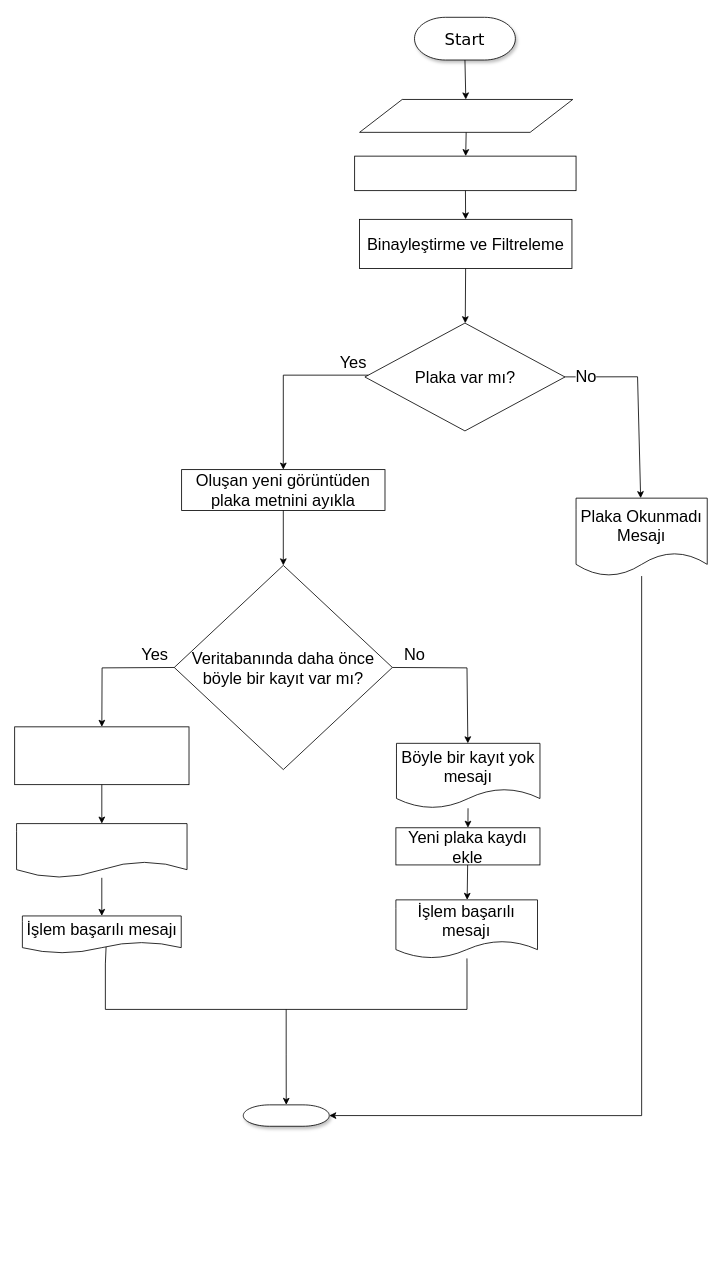
This 722x1277 diagram has some shape labels left out. The shapes that lost their labels are listed below. From the top down, each one's centre as x and y in pixels, then its label:
point 466,115: Kamera görüntüsü
point 465,173: Kamera görüntüsünün ekran görüntüsünü al
point 101,755: Veritabanıyla eşleşeşen değeri getir
point 101,850: Eşleşen plaka değeri
point 286,1116: End
